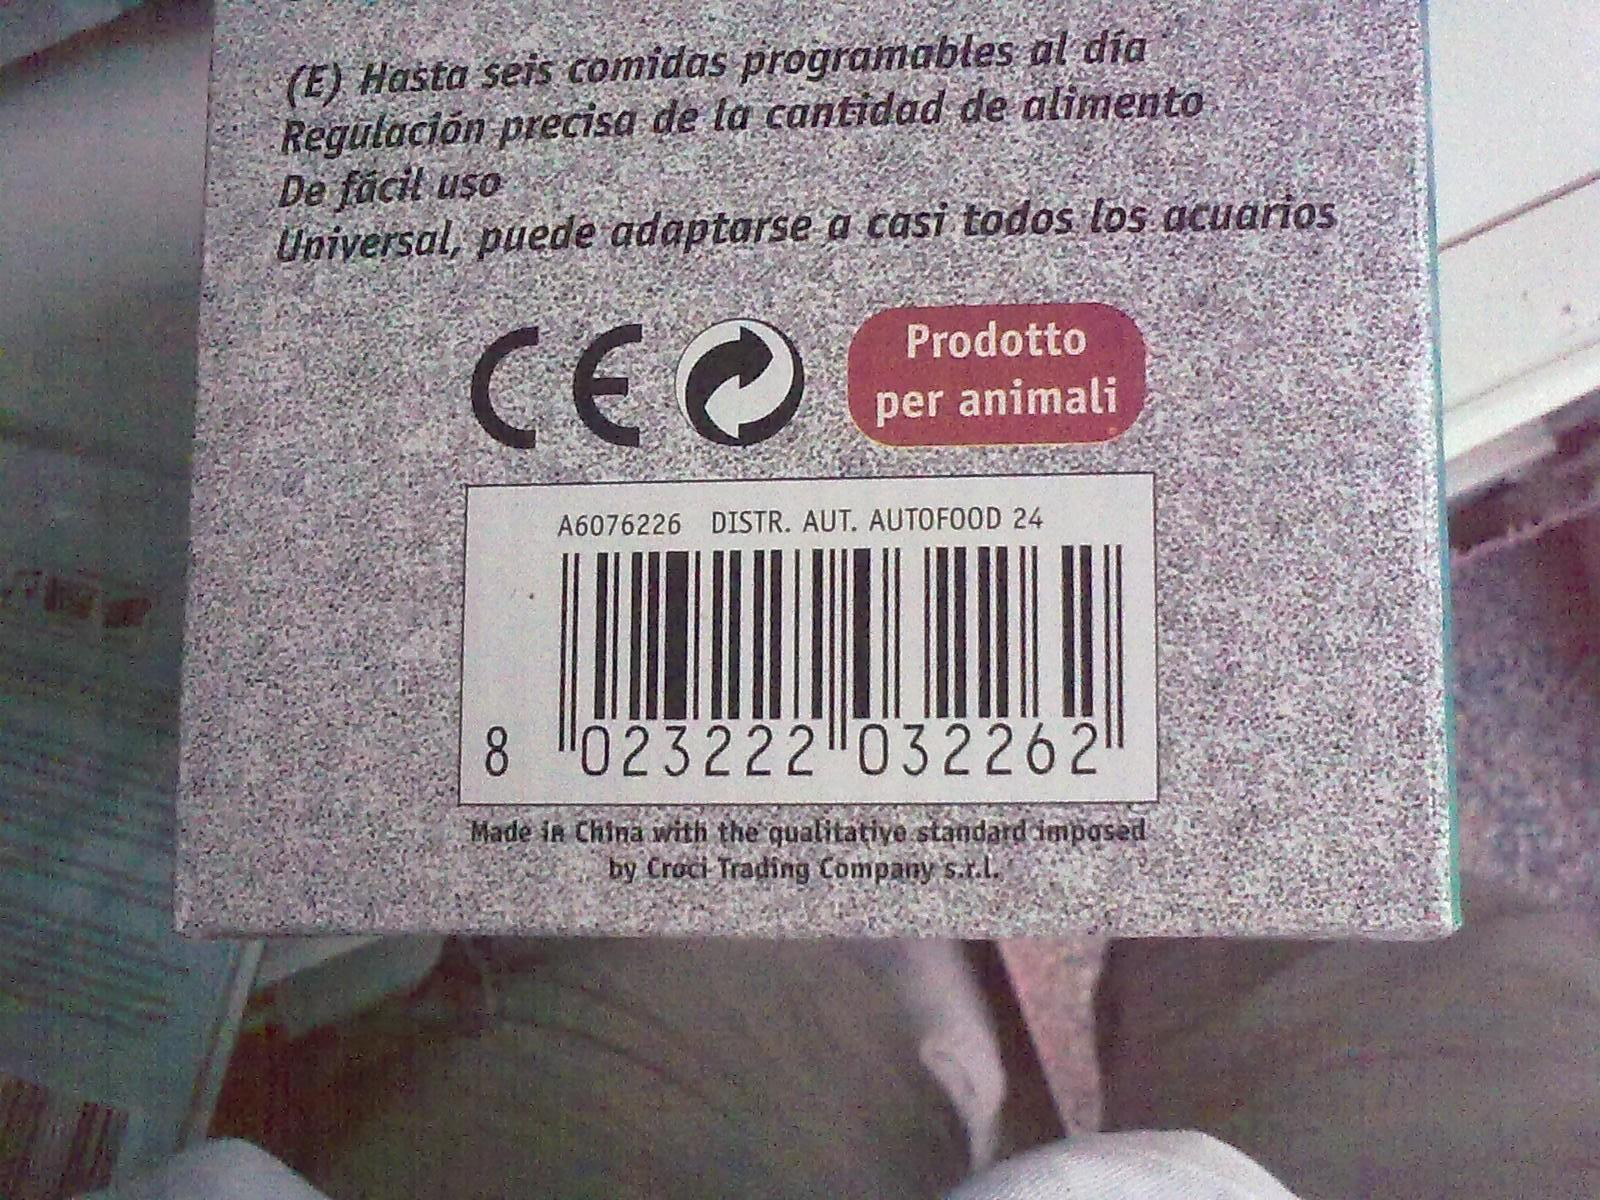Barcode: (454, 529, 1157, 798)
